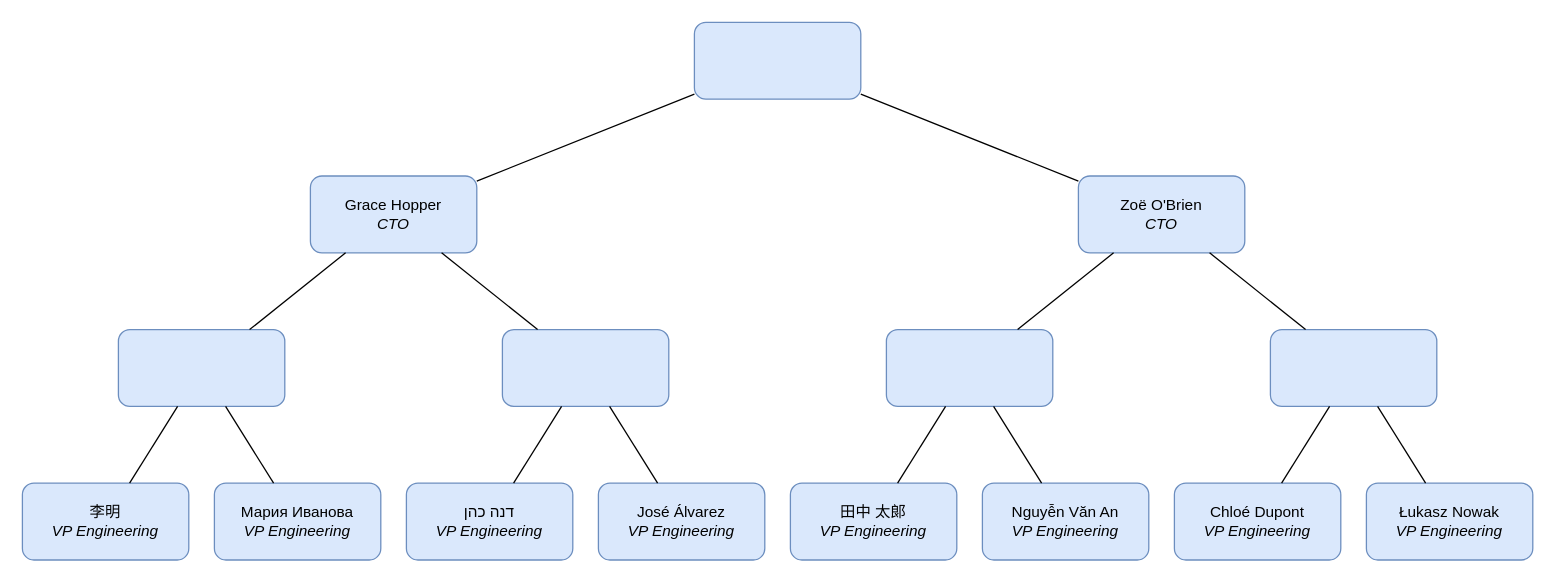
Some shapes in this 1555 by 582 pixel diagram are drawn without their labels. Each missing label, with the box of its shape:
Ada Lovelace CEO: (693, 21, 861, 99)
Alan Turing CFO: (117, 328, 285, 406)
Søren Kierkegaard CFO: (885, 328, 1053, 406)
Åsa Lindqvist CFO: (1269, 328, 1437, 406)
محمد علي CFO: (501, 328, 669, 406)
